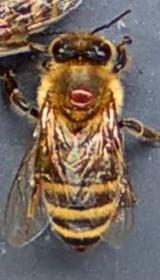varroa_mite: (65, 79, 99, 114)
